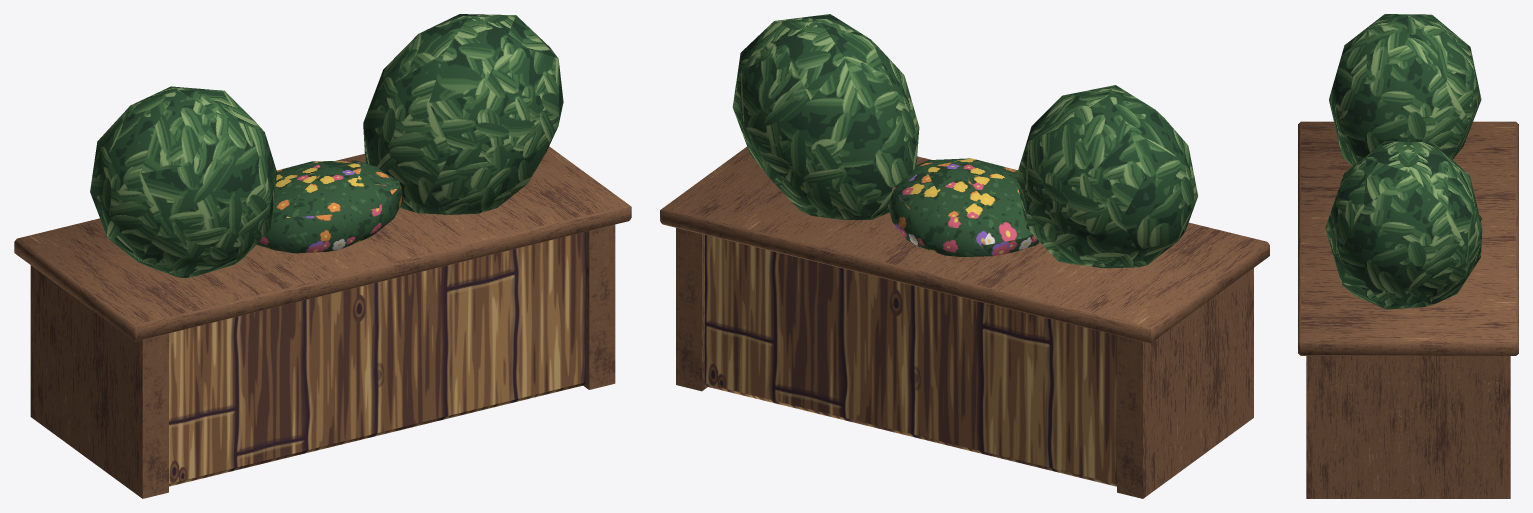
Rendered from planter_box.glb.
3 views of the same model, side by side, from view 1: azimuth 30°, elevation 25°; view 2: azimuth 150°, elevation 25°; view 3: azimuth 270°, elevation 25° (orthographic). The views are drawn at different scales.
Parts seen in each view (by area): view 1: Planter; view 2: Planter; view 3: Planter.
Part boxes in pixels (x1,y1,x2,y2): Planter: [14, 14, 631, 498]; Planter: [660, 14, 1269, 498]; Planter: [1298, 14, 1518, 498].
Size of the model in its own units: 1.9 by 1.26 by 0.8.
Materials: 4 (4 with a texture image).
